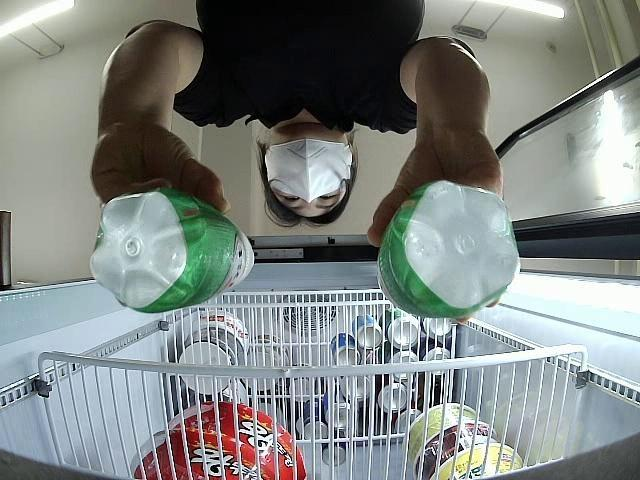18_trevi: (92, 192, 256, 316), (378, 177, 518, 322)
